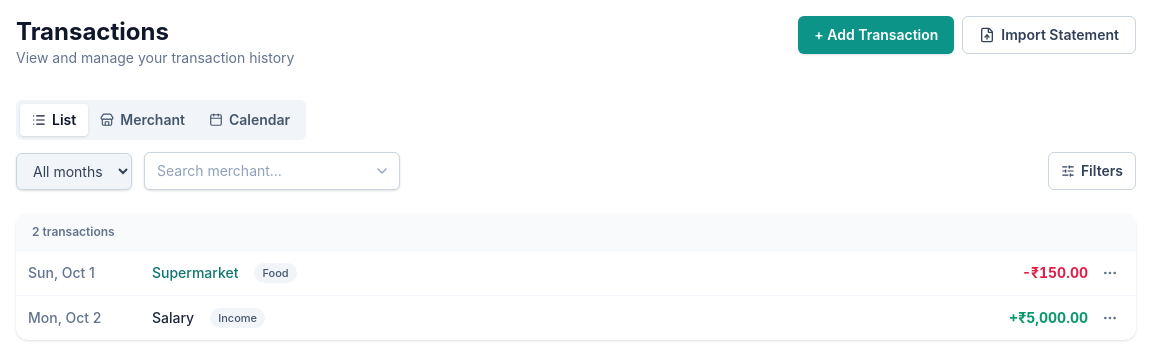
Test case: TransactionsPage › Merchant view scope pill — "All time" when BE returns period_type=all
Expected: the link "Supermarket" is shown, [152, 264, 238, 281]
Click the tab "Merchant" at point(143, 120), box [88, 104, 197, 136]
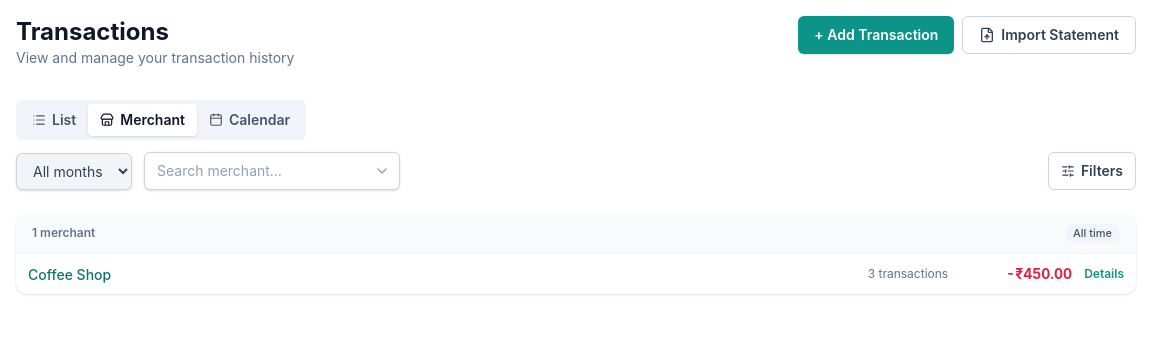
Now the text with test id "merchant-scope-pill" reads "All time", box [1073, 226, 1112, 240]
